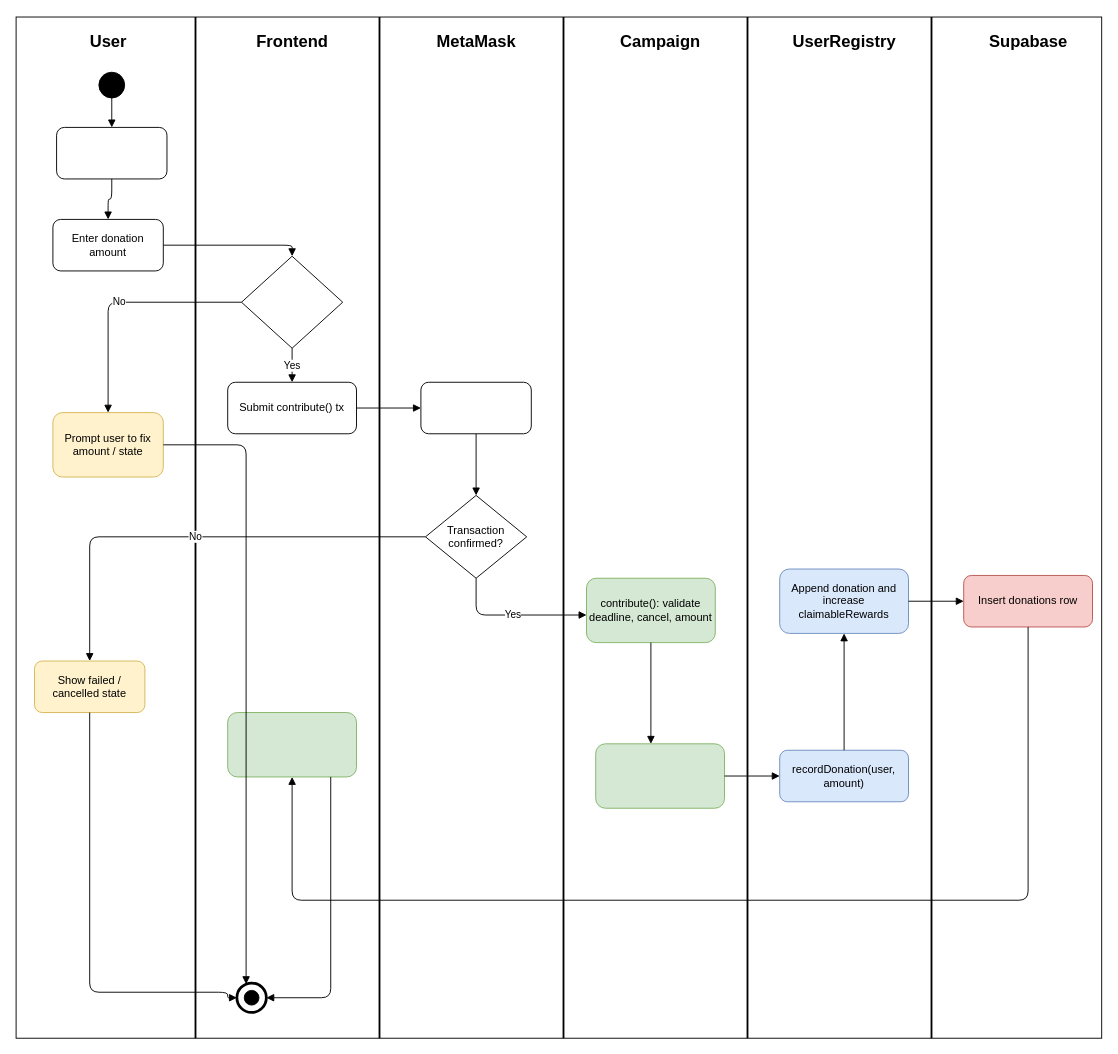
The diagram is 1118 pixels wide and 1054 high, and some of its shapes have lost their labels. Here are the shapes that lost their labels. From the top down, the centre of each, then its label:
pixel 111 152: Open campaign detail
pixel 292 301: Campaign active and amount valid?
pixel 475 407: Confirm donation tx
pixel 291 744: Show success page and refresh totals
pixel 659 775: Update contributions, totalFunded, goalReached
